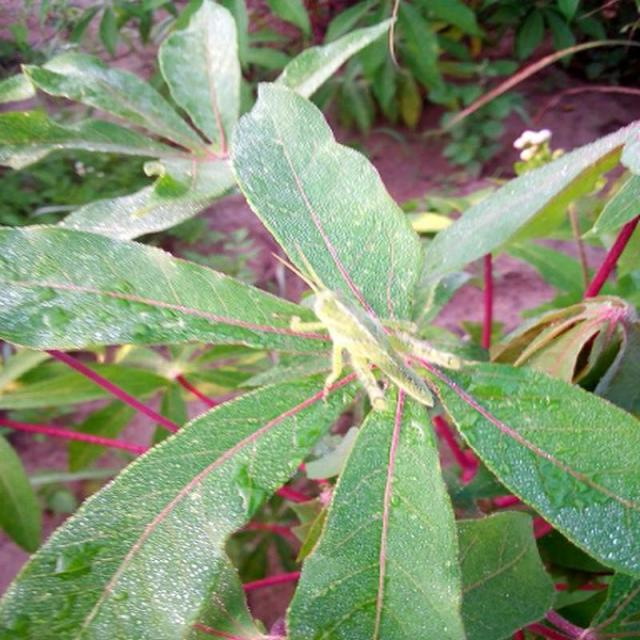cassava leaf: (2, 78, 640, 637), (286, 390, 468, 638)
